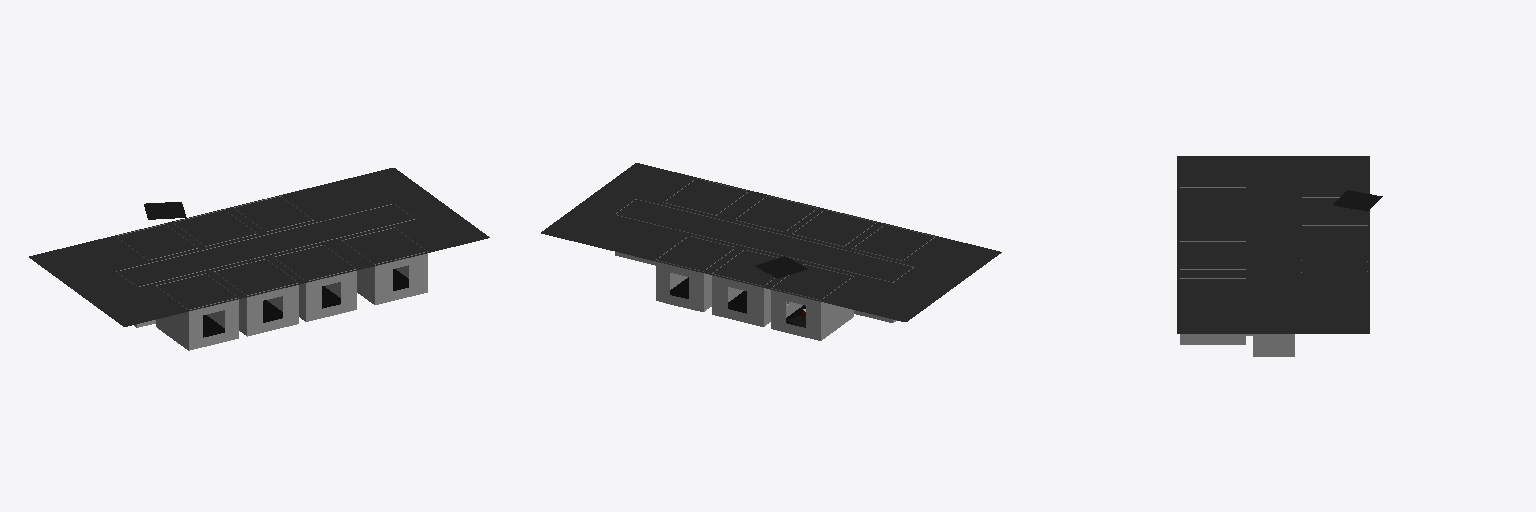
Rendered from Carpets.obj.
The picture shows the model from 3 angles: view 1: azimuth 30°, elevation 25°; view 2: azimuth 150°, elevation 25°; view 3: azimuth 270°, elevation 25°; orthographic projection.
Visible parts, largest first — view 1: Плоскость.014_Плоскость.045, Плоскость.018_Плоскость.049; view 2: Плоскость.014_Плоскость.045, Плоскость.018_Плоскость.049; view 3: Плоскость.014_Плоскость.045, Плоскость.018_Плоскость.049.
Part boxes in pixels (bbox=[...]): Плоскость.014_Плоскость.045: bbox=[29, 168, 489, 350]; Плоскость.018_Плоскость.049: bbox=[144, 202, 186, 219]; Плоскость.014_Плоскость.045: bbox=[541, 163, 1001, 340]; Плоскость.018_Плоскость.049: bbox=[755, 256, 807, 278]; Плоскость.014_Плоскость.045: bbox=[1177, 156, 1369, 356]; Плоскость.018_Плоскость.049: bbox=[1333, 190, 1382, 211].
Size of the model in its own units: 49.39 by 7.64 by 24.02.